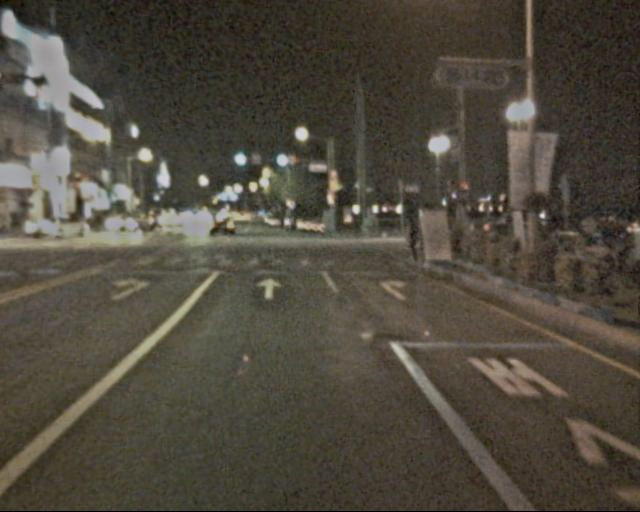person: (594, 218, 618, 277), (573, 222, 595, 275), (400, 218, 422, 271)
